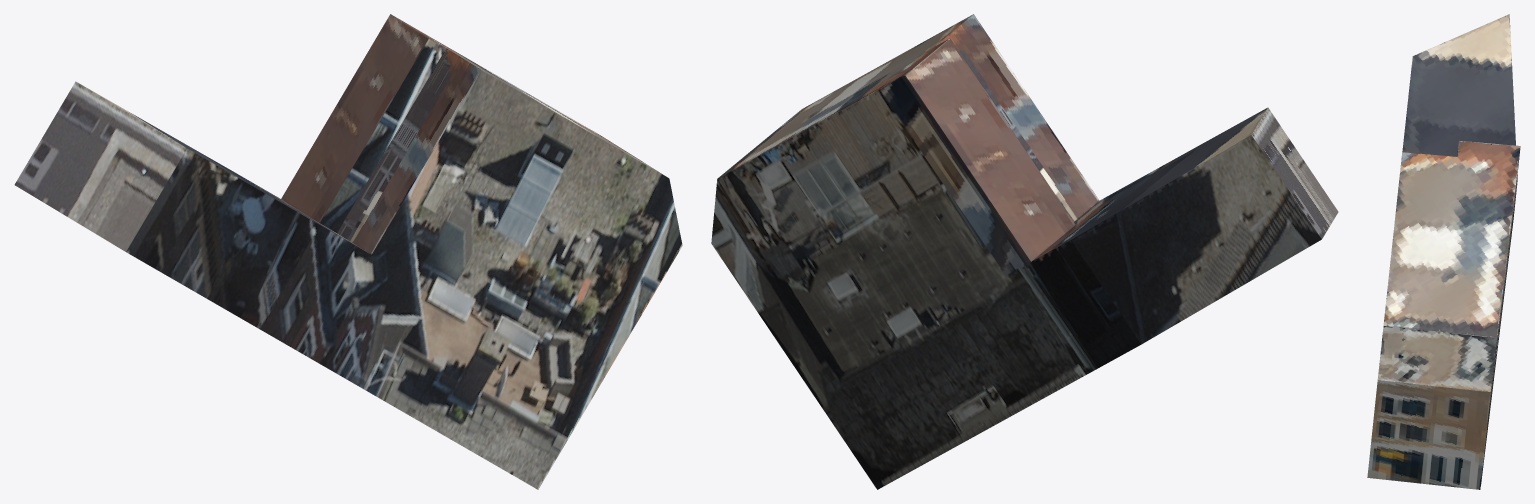
The picture shows the model from 3 angles, left to right: view 1: azimuth 30°, elevation 25°; view 2: azimuth 150°, elevation 25°; view 3: azimuth 270°, elevation 25°; orthographic projection. The views are drawn at different scales.
Parts seen in each view (by area): view 1: BAG_0599100000671728 (×4); view 2: BAG_0599100000671728 (×3); view 3: BAG_0599100000671728 (×2).
Boxes of the visible parts, box(x1,y1,x2,y2) form: BAG_0599100000671728 (×4): box(14, 14, 682, 489); BAG_0599100000671728 (×3): box(711, 14, 1338, 489); BAG_0599100000671728 (×2): box(1367, 14, 1520, 489).
Size of the model in its own units: 26.78 by 19.22 by 7.92.
5 materials, 5 textured.
